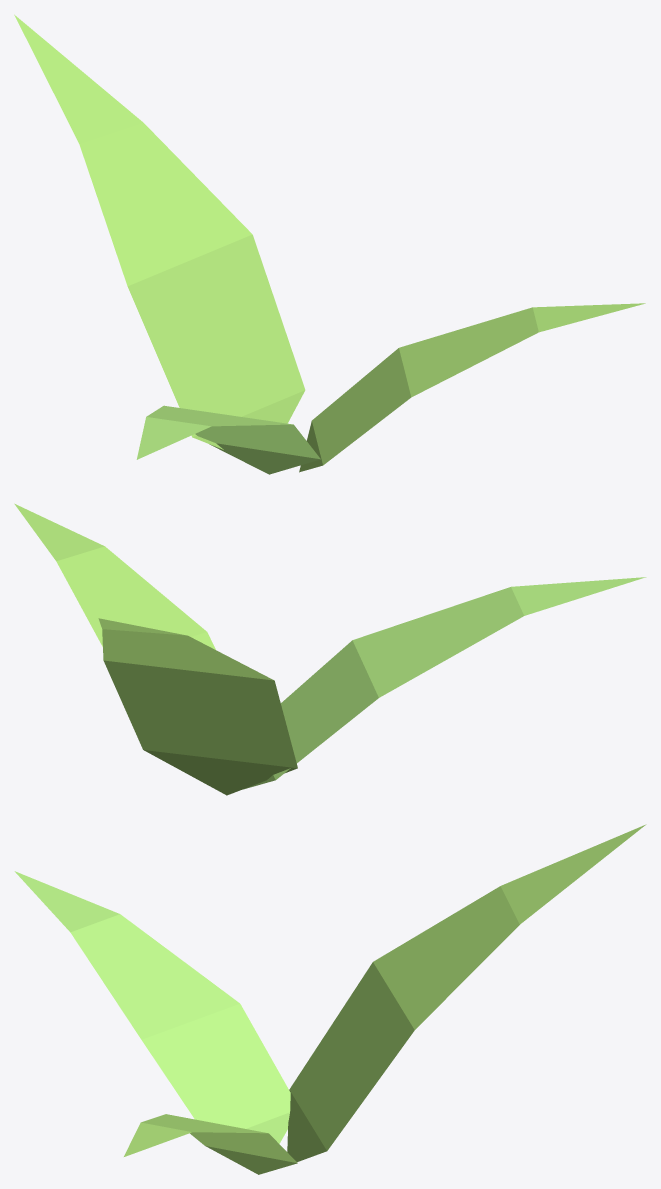
Rendered from Plant_a_OneS_04.fbx.
3 renders of one model, top to bottom at view 1: azimuth 30°, elevation 25°; view 2: azimuth 150°, elevation 25°; view 3: azimuth 270°, elevation 25°, orthographic. The views are drawn at different scales.
Visible parts, largest first — view 1: Plant_a_OneS_04; view 2: Plant_a_OneS_04; view 3: Plant_a_OneS_04.
Part boxes in pixels (bbox=[...]): Plant_a_OneS_04: bbox=[14, 14, 645, 474]; Plant_a_OneS_04: bbox=[14, 503, 646, 795]; Plant_a_OneS_04: bbox=[14, 824, 646, 1174].
Size of the model in its own units: 1.63 by 0.903 by 1.65.
